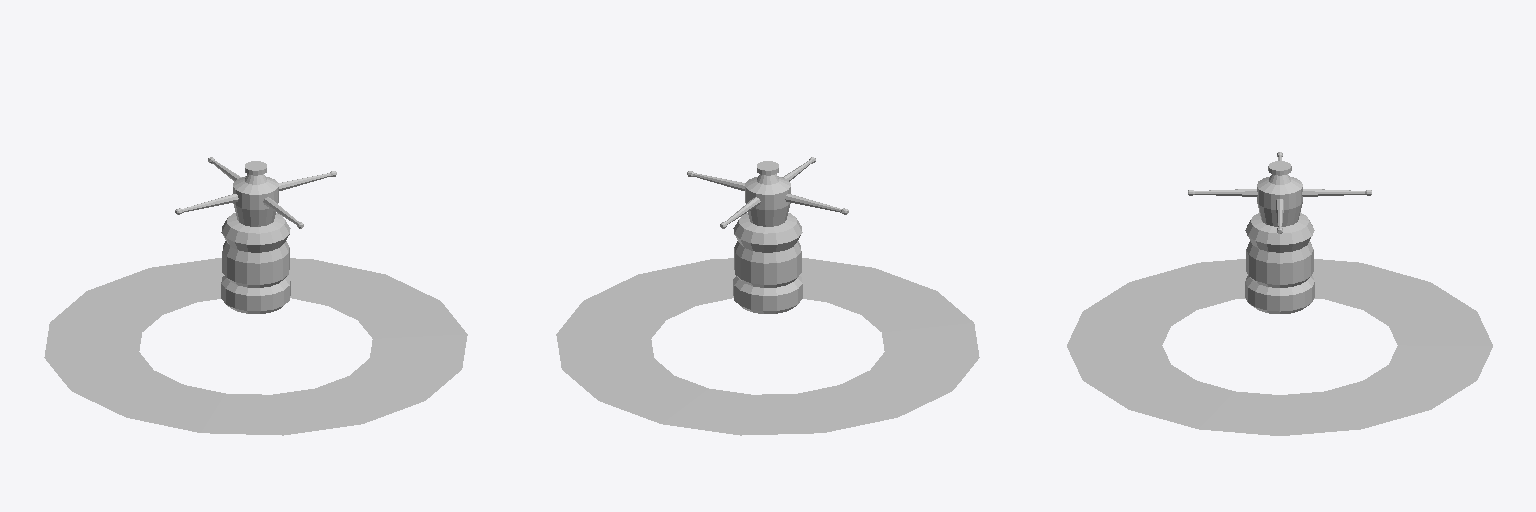
File: moving.obj
The picture shows the model from 3 angles: view 1: azimuth 30°, elevation 25°; view 2: azimuth 150°, elevation 25°; view 3: azimuth 270°, elevation 25°; orthographic projection.
Visible parts, largest first — view 1: Cylinder.001_Cylinder.005; view 2: Cylinder.001_Cylinder.005; view 3: Cylinder.001_Cylinder.005.
Boxes of the visible parts, x1=… form: Cylinder.001_Cylinder.005: x1=44, y1=157, x2=467, y2=435; Cylinder.001_Cylinder.005: x1=556, y1=157, x2=979, y2=435; Cylinder.001_Cylinder.005: x1=1067, y1=152, x2=1492, y2=435.
Size of the model in its own units: 2.04 by 0.9509 by 2.04.